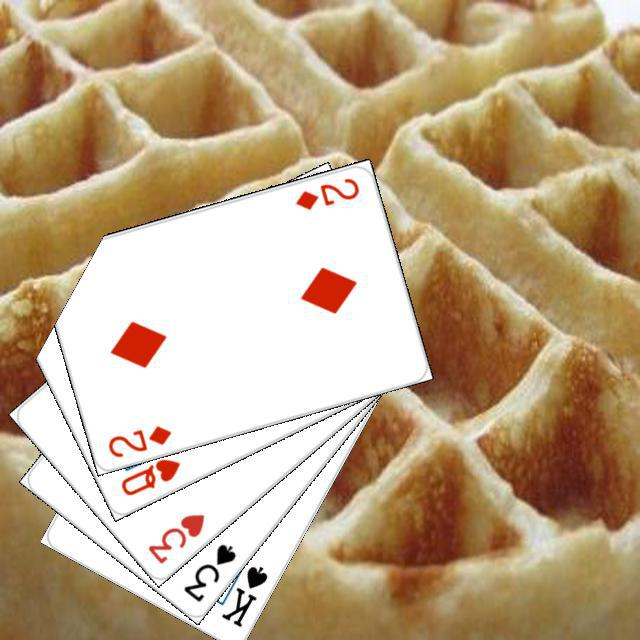2d: (103, 420, 174, 459), (291, 173, 361, 212)
3h: (142, 508, 206, 566)
3s: (178, 538, 238, 604)
Ks: (216, 560, 270, 629)
Qh: (116, 453, 182, 498)
